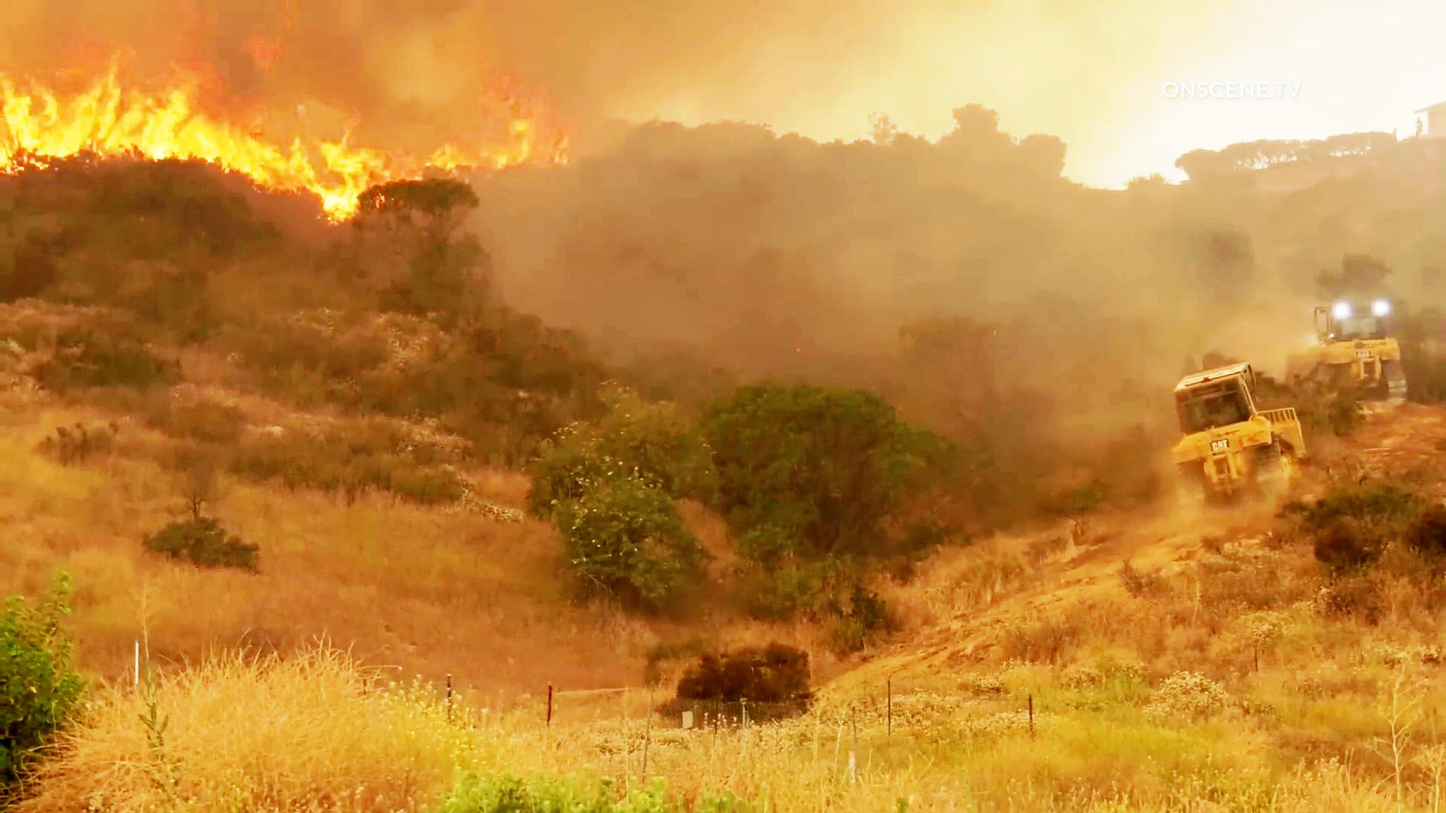fire: (296, 93, 546, 195), (160, 58, 295, 192), (12, 72, 165, 184)
